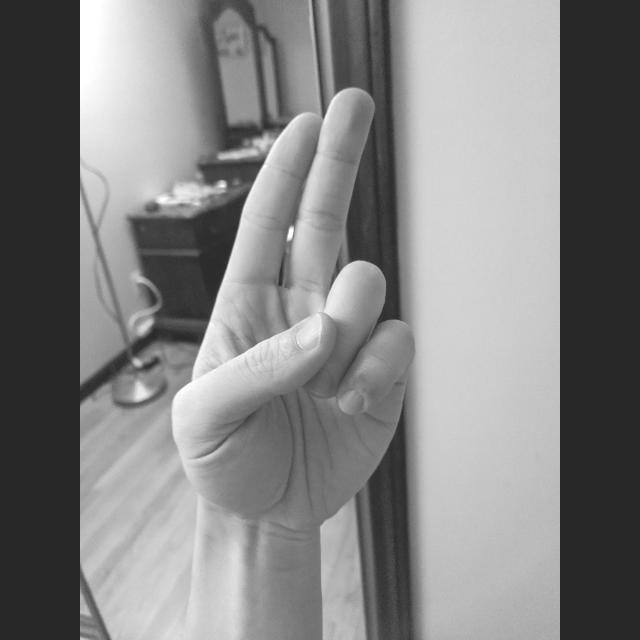U: (168, 84, 422, 536)
